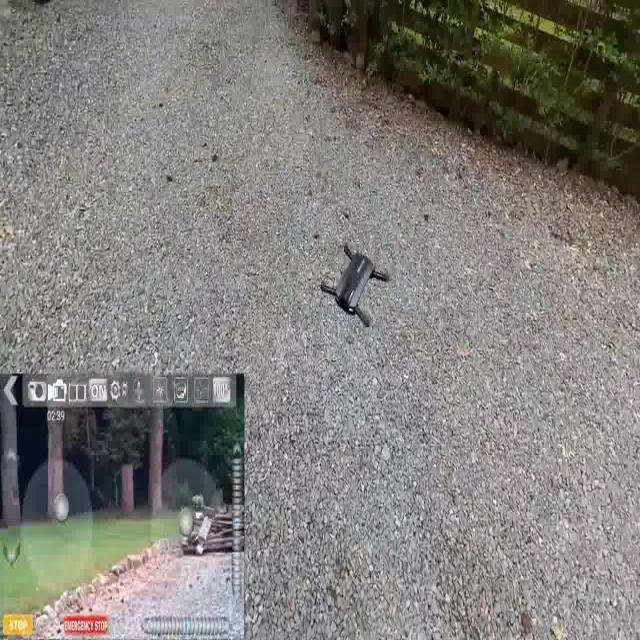Drone_FW: (321, 224, 389, 335)
